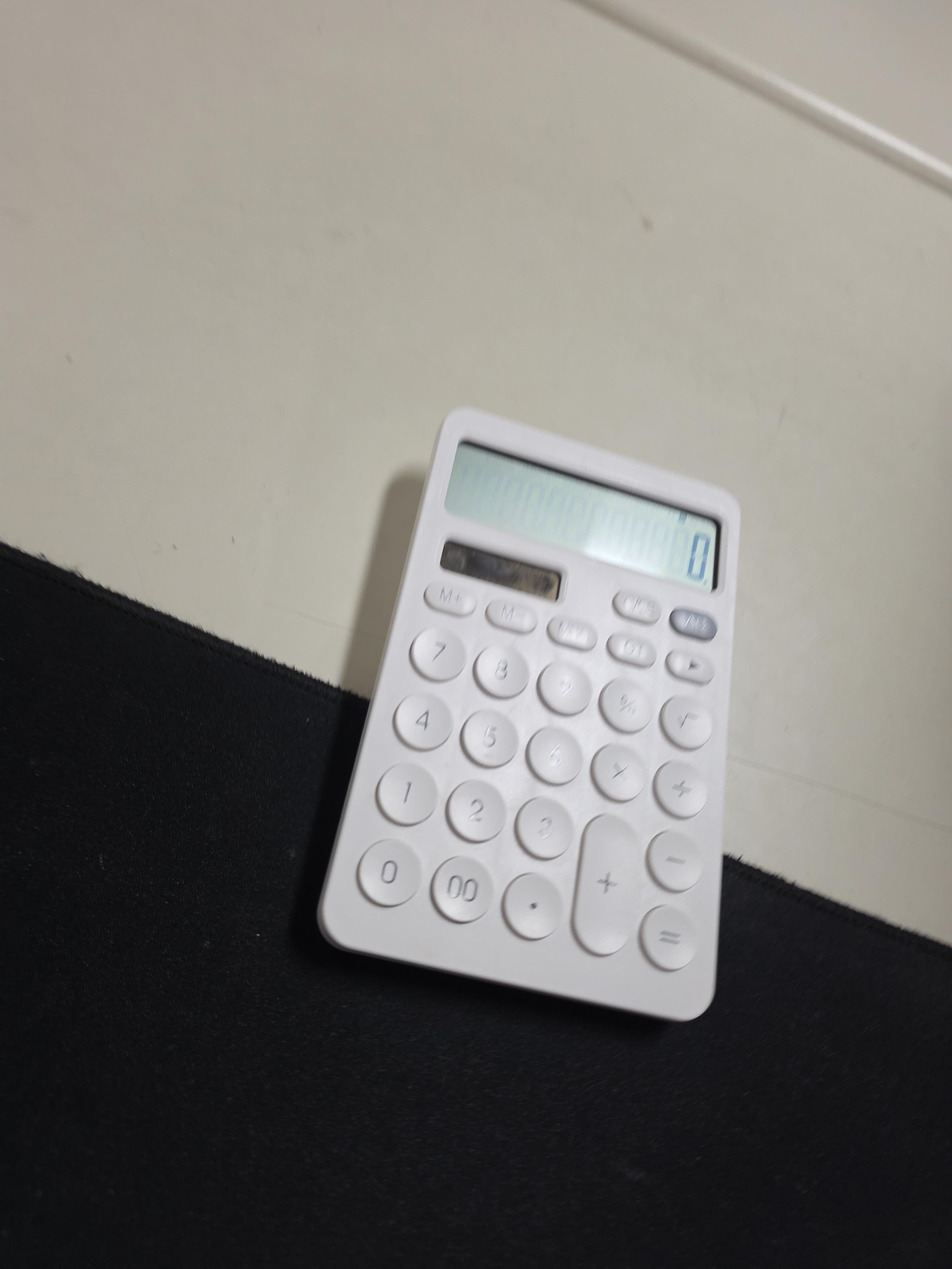calculator: (318, 404, 741, 1021)
